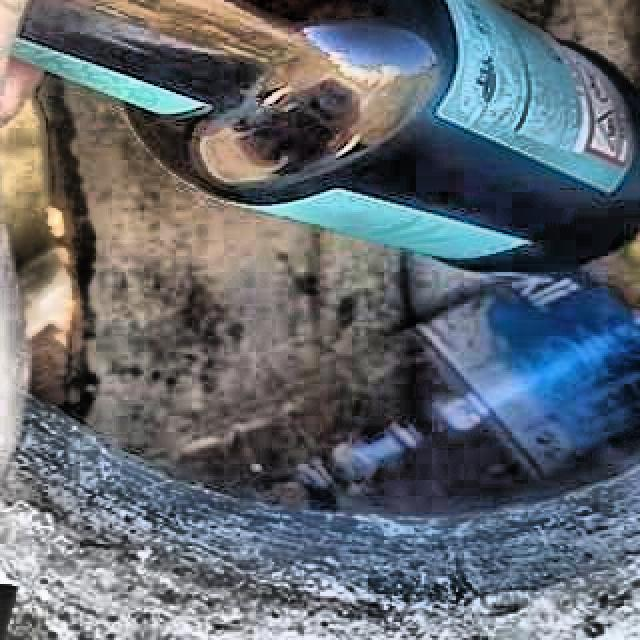glass: (13, 0, 640, 271)
